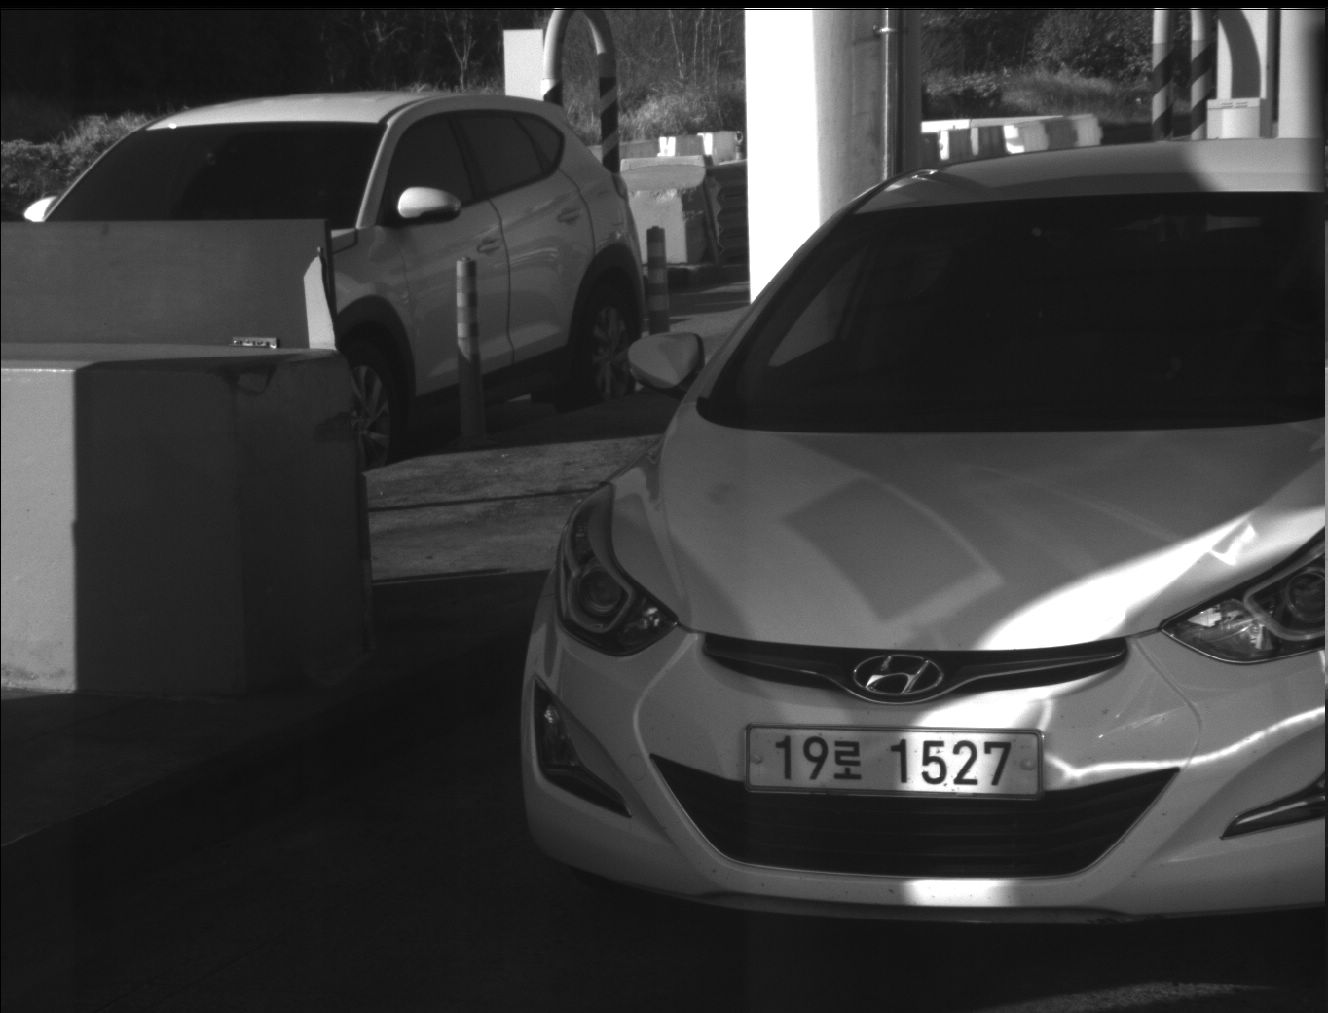car: (515, 133, 1328, 932), (1, 88, 642, 476)
plate: (741, 722, 1047, 798)
